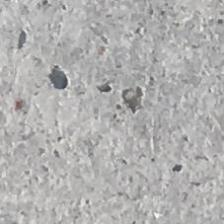Crack: (11, 23, 156, 116)
Non_Crack: (13, 119, 223, 224)
